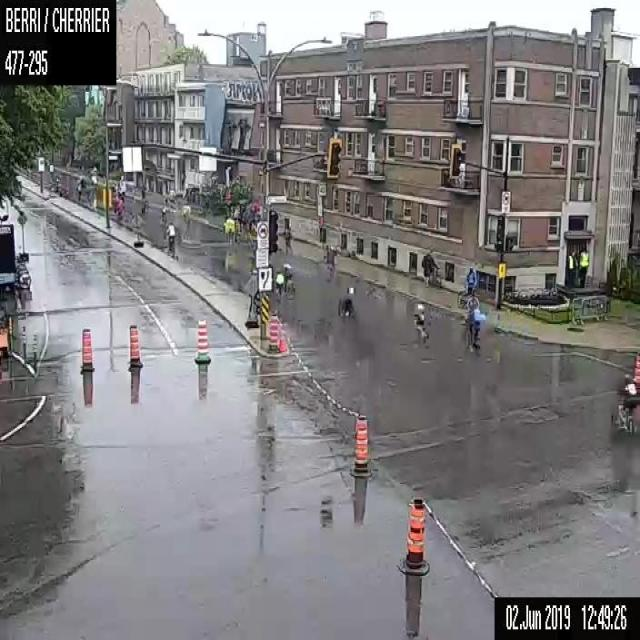construction: (0, 222, 16, 358), (405, 498, 424, 568), (349, 413, 369, 478), (244, 274, 258, 326), (194, 318, 210, 362), (126, 324, 142, 367), (79, 327, 94, 371), (16, 212, 29, 260), (266, 313, 280, 352), (130, 212, 143, 246), (632, 352, 639, 382), (33, 334, 36, 374), (22, 325, 25, 360)
cyclist: (610, 373, 639, 432), (456, 265, 479, 309), (463, 296, 481, 351), (413, 300, 428, 345), (322, 244, 338, 281), (222, 208, 235, 245), (337, 291, 354, 318), (283, 262, 295, 298), (166, 220, 174, 255), (275, 271, 283, 301), (160, 196, 168, 224)
pedestrian: (420, 249, 439, 287), (565, 250, 577, 288), (578, 248, 589, 286), (283, 226, 292, 255), (141, 186, 147, 212)
